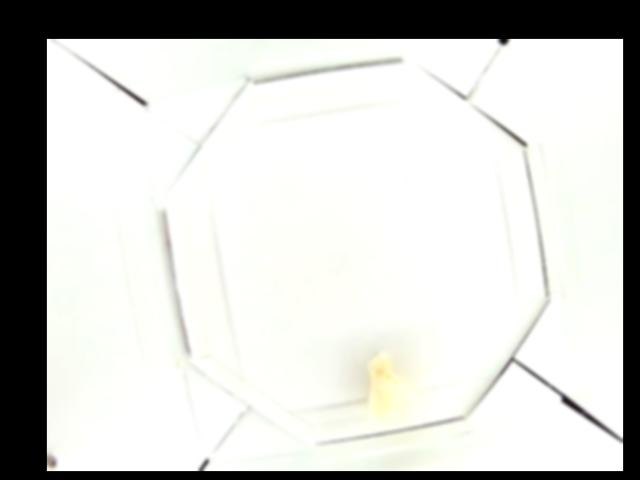Mooli: (365, 351, 424, 420)
